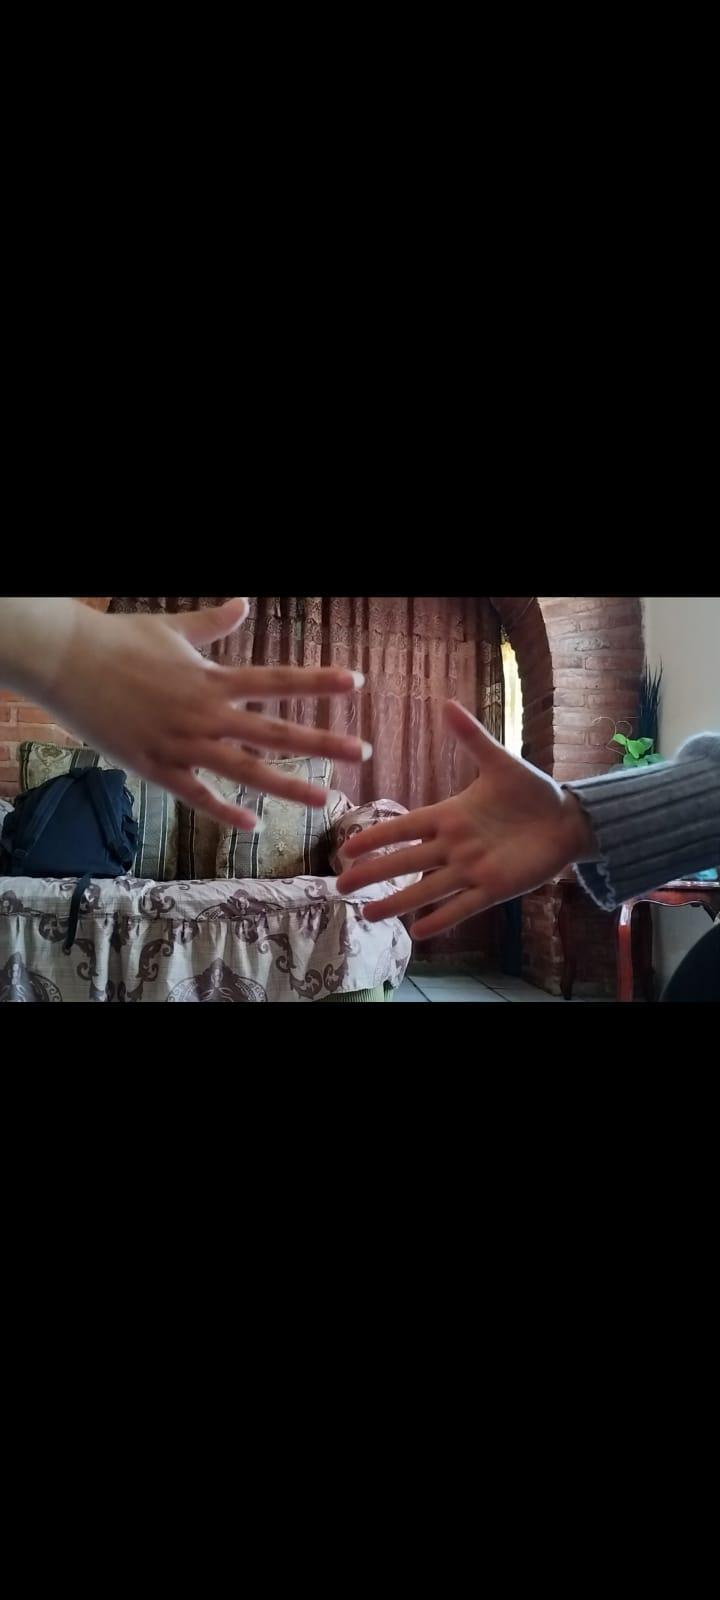Paper: (32, 600, 379, 827), (326, 699, 597, 946)
